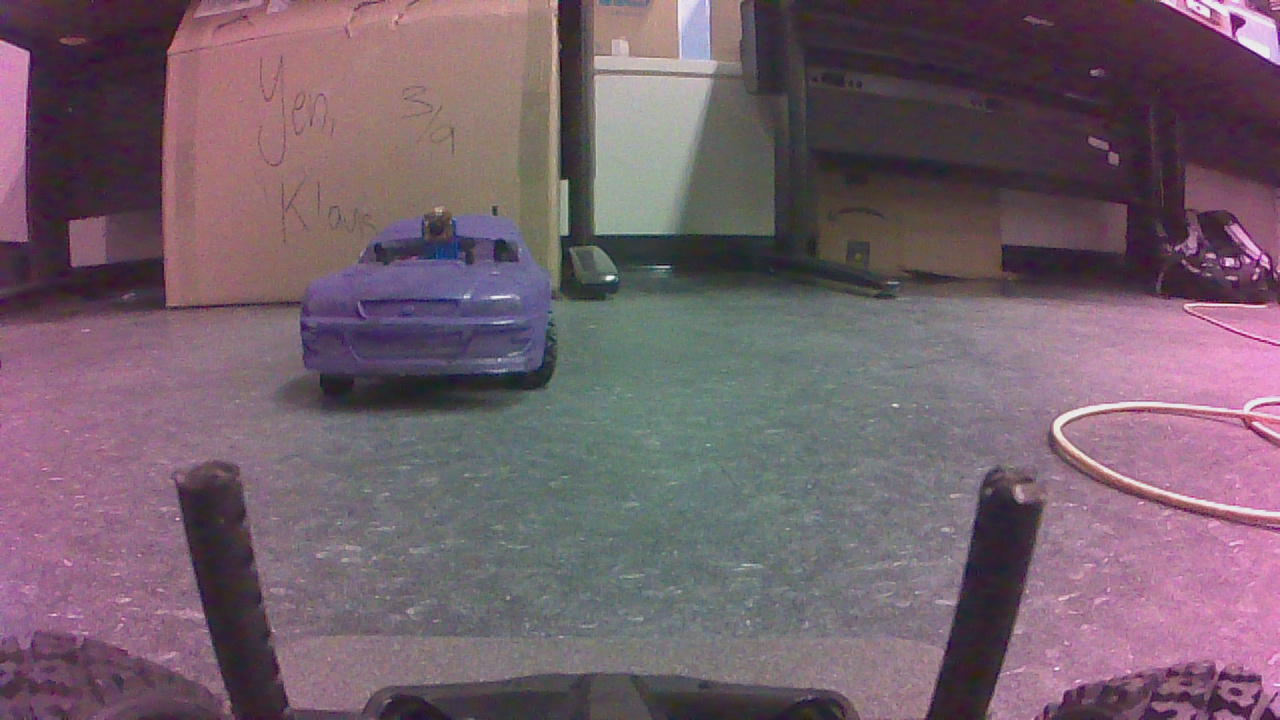opponent: (299, 208, 570, 385)
